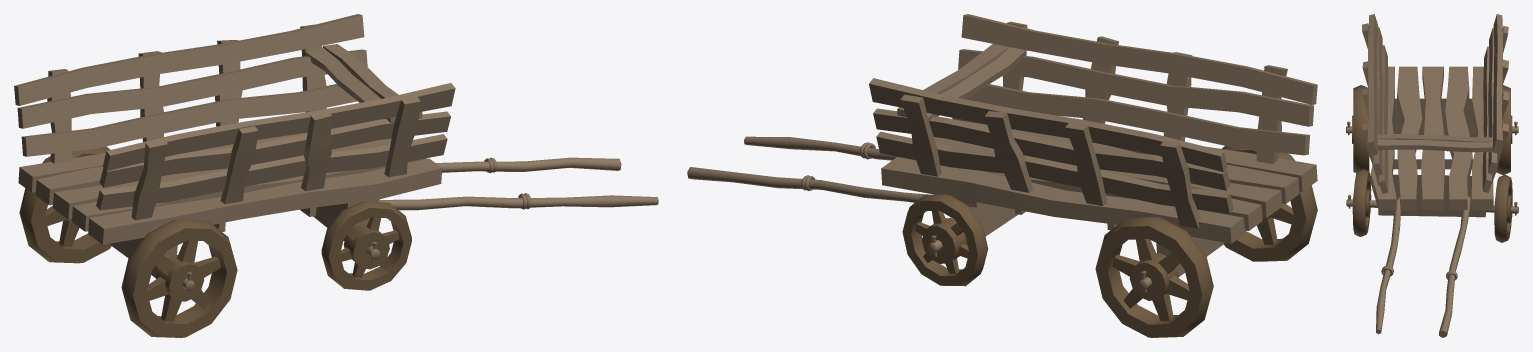
The model's file is Car.fbx.
3 views of the same model, side by side, from view 1: azimuth 30°, elevation 25°; view 2: azimuth 150°, elevation 25°; view 3: azimuth 270°, elevation 25° (orthographic). The views are drawn at different scales.
Visible parts, largest first — view 1: Car, Wheel_2, Wheel_1; view 2: Car, Wheel_2, Wheel_1; view 3: Car, Wheel_1, Wheel_2.
Boxes of the visible parts, bbox=[...] form: Car: bbox=[14, 14, 658, 292]; Wheel_2: bbox=[19, 146, 237, 337]; Wheel_1: bbox=[321, 201, 411, 290]; Car: bbox=[687, 14, 1317, 292]; Wheel_2: bbox=[1095, 146, 1317, 337]; Wheel_1: bbox=[902, 194, 988, 286]; Car: bbox=[1346, 14, 1518, 337]; Wheel_1: bbox=[1352, 169, 1512, 242]; Wheel_2: bbox=[1352, 85, 1512, 175].
Size of the model in its own units: 4.87 by 1.63 by 1.85.
